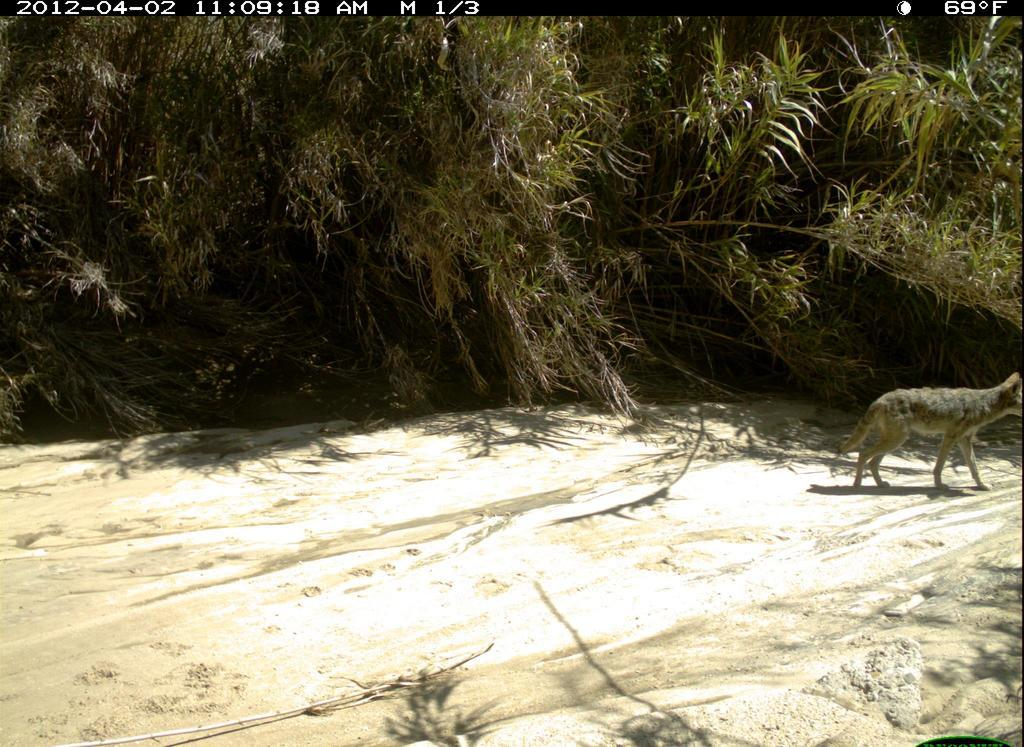coyote: (844, 364, 1021, 502)
